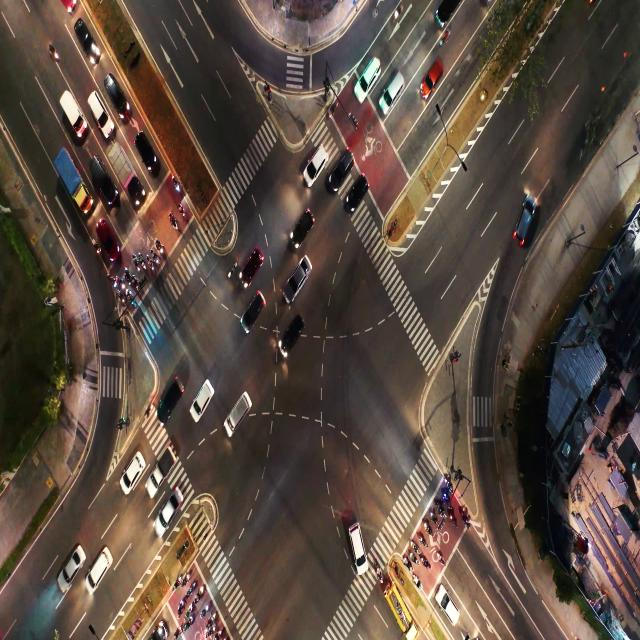bus: (389, 593, 406, 633)
car: (512, 196, 537, 242), (437, 584, 463, 621), (244, 288, 264, 331), (230, 388, 247, 432), (355, 69, 376, 103), (350, 525, 365, 572), (382, 73, 401, 107), (158, 382, 176, 417), (421, 63, 440, 96), (282, 318, 302, 348), (289, 261, 305, 297), (122, 454, 138, 486), (155, 504, 173, 530), (348, 180, 363, 211), (101, 222, 116, 252), (245, 251, 260, 280), (294, 211, 306, 243), (98, 170, 111, 198), (140, 138, 154, 163), (93, 556, 107, 580), (309, 148, 321, 174), (195, 388, 208, 412), (110, 78, 122, 104), (94, 98, 107, 120), (62, 564, 77, 582), (438, 1, 452, 20), (335, 158, 347, 175), (79, 30, 92, 43)
motorcycle: (225, 254, 238, 282), (168, 212, 176, 228), (51, 48, 60, 61), (117, 291, 123, 308), (419, 530, 426, 544), (414, 574, 421, 588), (441, 32, 449, 44), (178, 204, 186, 216), (394, 5, 401, 18), (431, 513, 438, 525), (425, 522, 432, 534), (412, 540, 418, 554), (404, 559, 412, 569), (140, 256, 145, 271), (422, 555, 428, 567), (463, 510, 468, 524), (377, 568, 382, 582), (157, 238, 162, 252), (188, 584, 194, 595), (172, 630, 180, 638), (411, 554, 418, 563), (173, 579, 180, 588), (450, 514, 456, 524), (184, 573, 189, 585), (197, 590, 203, 600), (202, 604, 208, 614), (132, 277, 138, 287), (93, 238, 98, 250), (178, 601, 182, 615), (183, 620, 190, 628), (206, 627, 213, 635), (217, 629, 224, 637), (439, 552, 444, 563), (110, 274, 114, 287), (445, 480, 452, 487), (209, 612, 213, 624), (134, 258, 138, 270), (118, 279, 123, 288), (174, 178, 178, 189), (153, 252, 157, 263), (188, 603, 193, 611), (148, 258, 151, 270), (128, 292, 132, 301), (437, 505, 442, 512), (125, 271, 129, 278), (445, 496, 449, 502)
truck: (59, 103, 79, 131), (150, 457, 168, 488), (58, 160, 75, 190), (115, 158, 127, 178)
